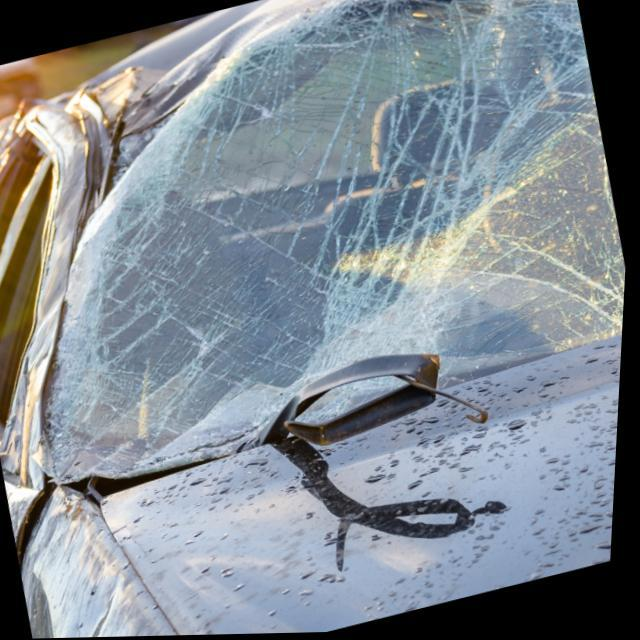dent: (83, 0, 317, 217), (21, 152, 86, 485), (37, 501, 192, 639)
glass shatter: (43, 0, 628, 482)
